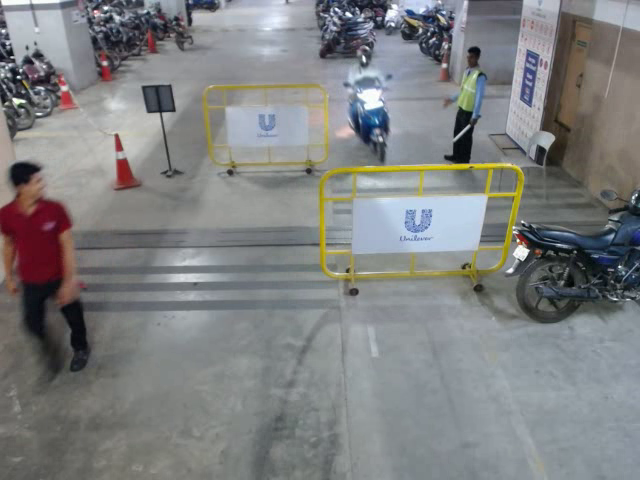with_helmet: (356, 44, 373, 67)
